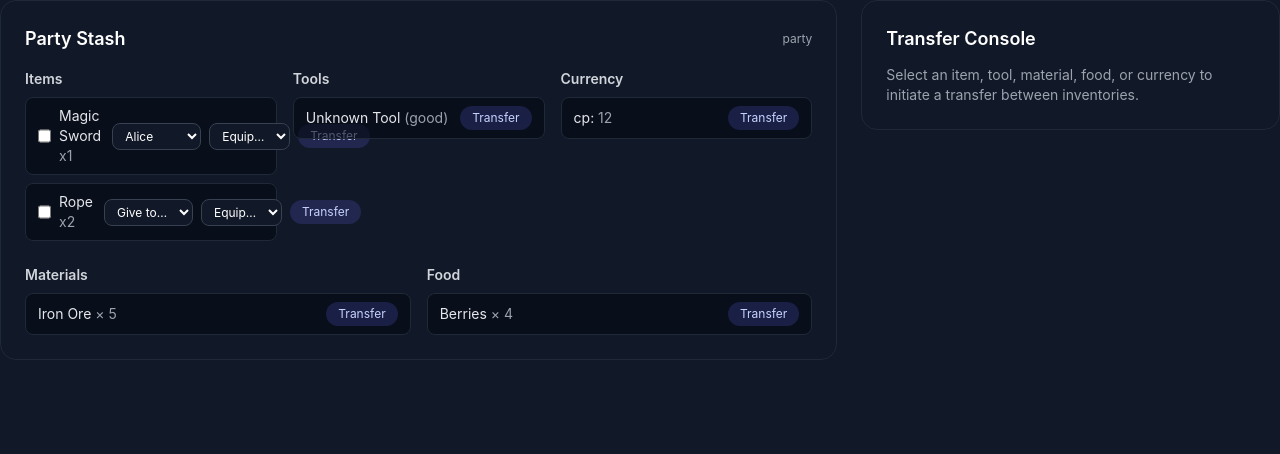
Test: PartyStashView › keeps a mixed bulk selection neutral
Click the checkbox named "Select Magic Sword" at coordinates (44, 136), box [38,128,51,144]
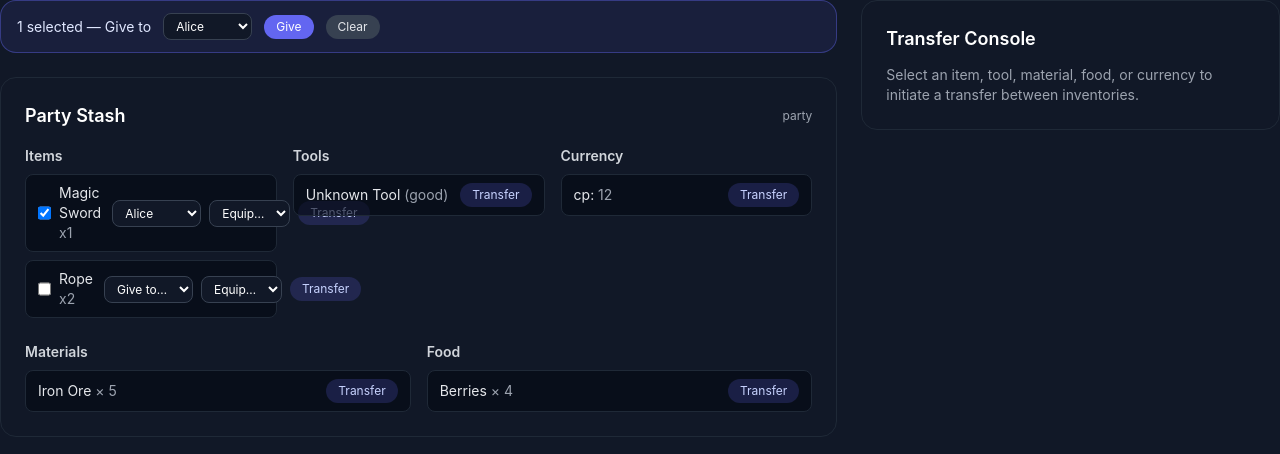
Click the checkbox named "Select Rope" at coordinates (44, 289), box [38,281,51,297]
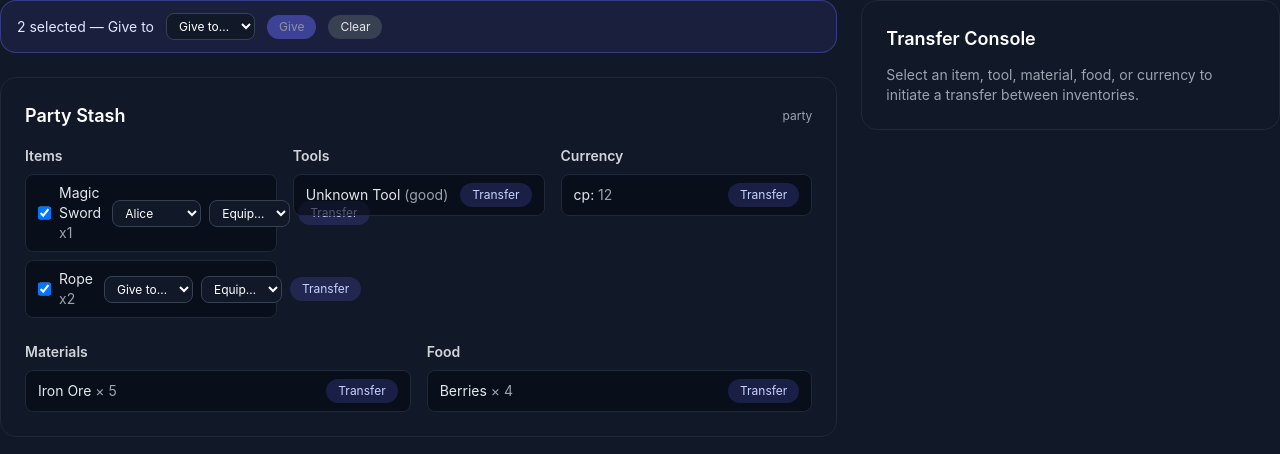
Expected: the dropdown named "Give selected items to character" shows "Give to…", [166,13,255,40]
